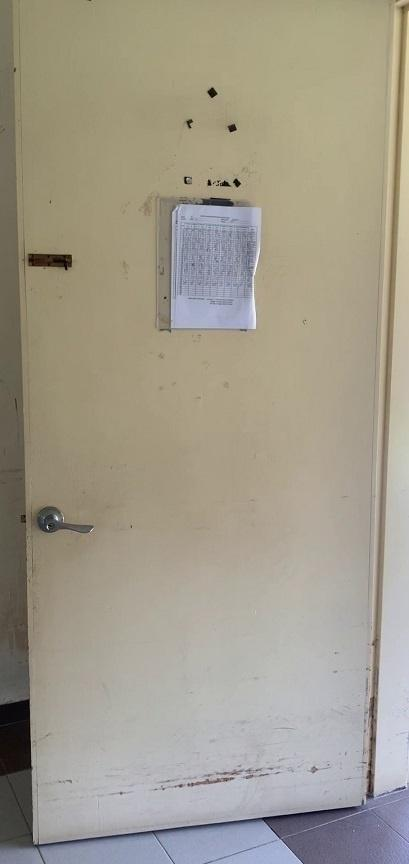door: (19, 0, 409, 848)
